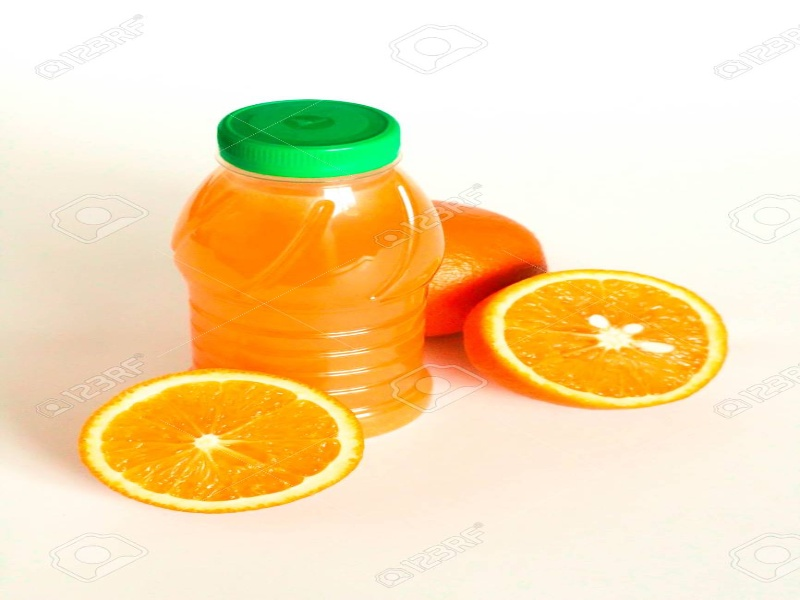Jugo de naranja: (170, 100, 432, 438)
